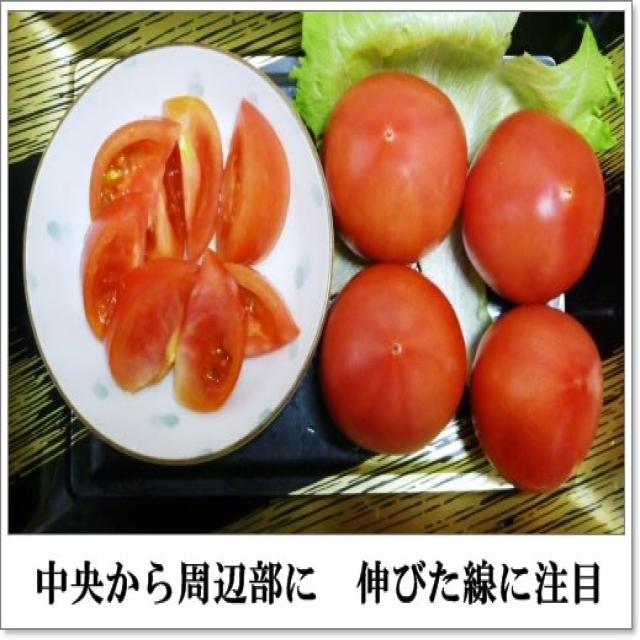Tomato: (319, 258, 470, 456), (464, 298, 610, 499), (460, 108, 608, 306), (324, 69, 469, 261), (104, 258, 204, 398), (168, 247, 250, 414), (216, 95, 293, 268), (81, 188, 157, 347), (161, 89, 224, 261), (88, 117, 183, 218), (220, 258, 302, 364)
